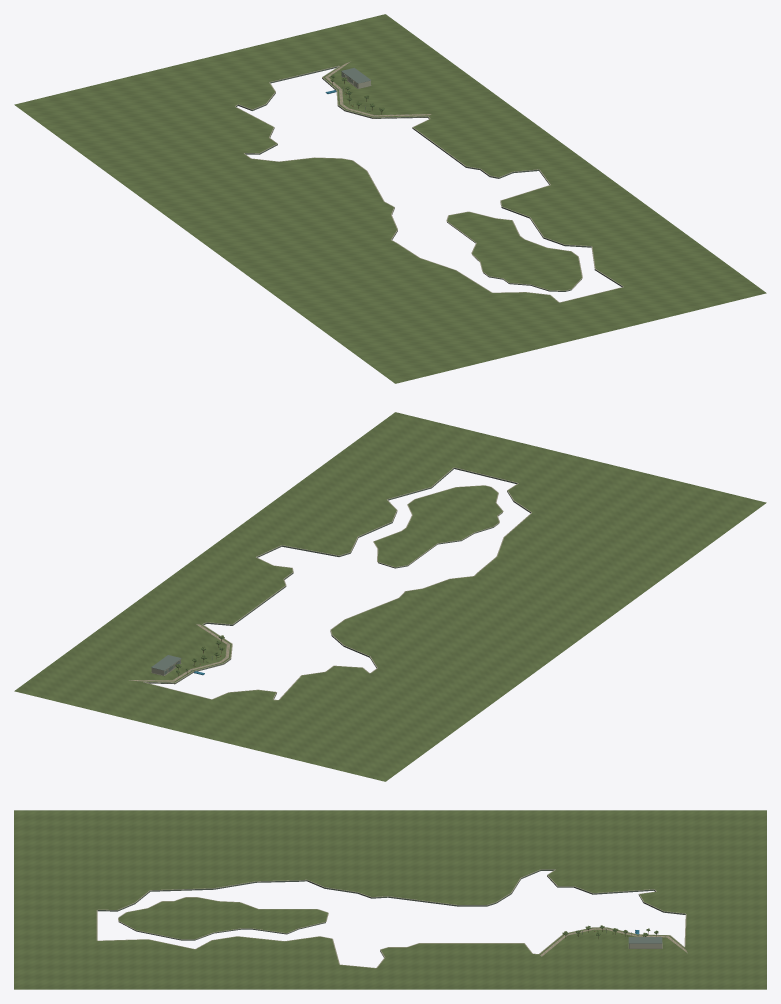
File: qizhen_north_bank.glb
3 renders of one model, top to bottom at view 1: azimuth 30°, elevation 25°; view 2: azimuth 150°, elevation 25°; view 3: azimuth 270°, elevation 25°, orthographic.
Visible parts, largest first — view 1: Batch_grass, Batch_coping, Batch_stone_dark; view 2: Batch_grass, Batch_coping, Batch_stone_dark; view 3: Batch_grass, Batch_coping, Batch_stone_dark.
Boxes of the visible parts, x1,y1,x2,y2 form: Batch_grass: (14,14,766,383); Batch_coping: (235,65,623,302); Batch_stone_dark: (236,66,622,291); Batch_grass: (14,412,766,781); Batch_coping: (143,467,531,700); Batch_stone_dark: (144,468,530,699); Batch_grass: (14,810,766,989); Batch_coping: (96,869,686,968); Batch_stone_dark: (97,869,685,957).
Bounding box in the file's own units: 225 × 4.83 × 400.
24 materials, 5 textured.
